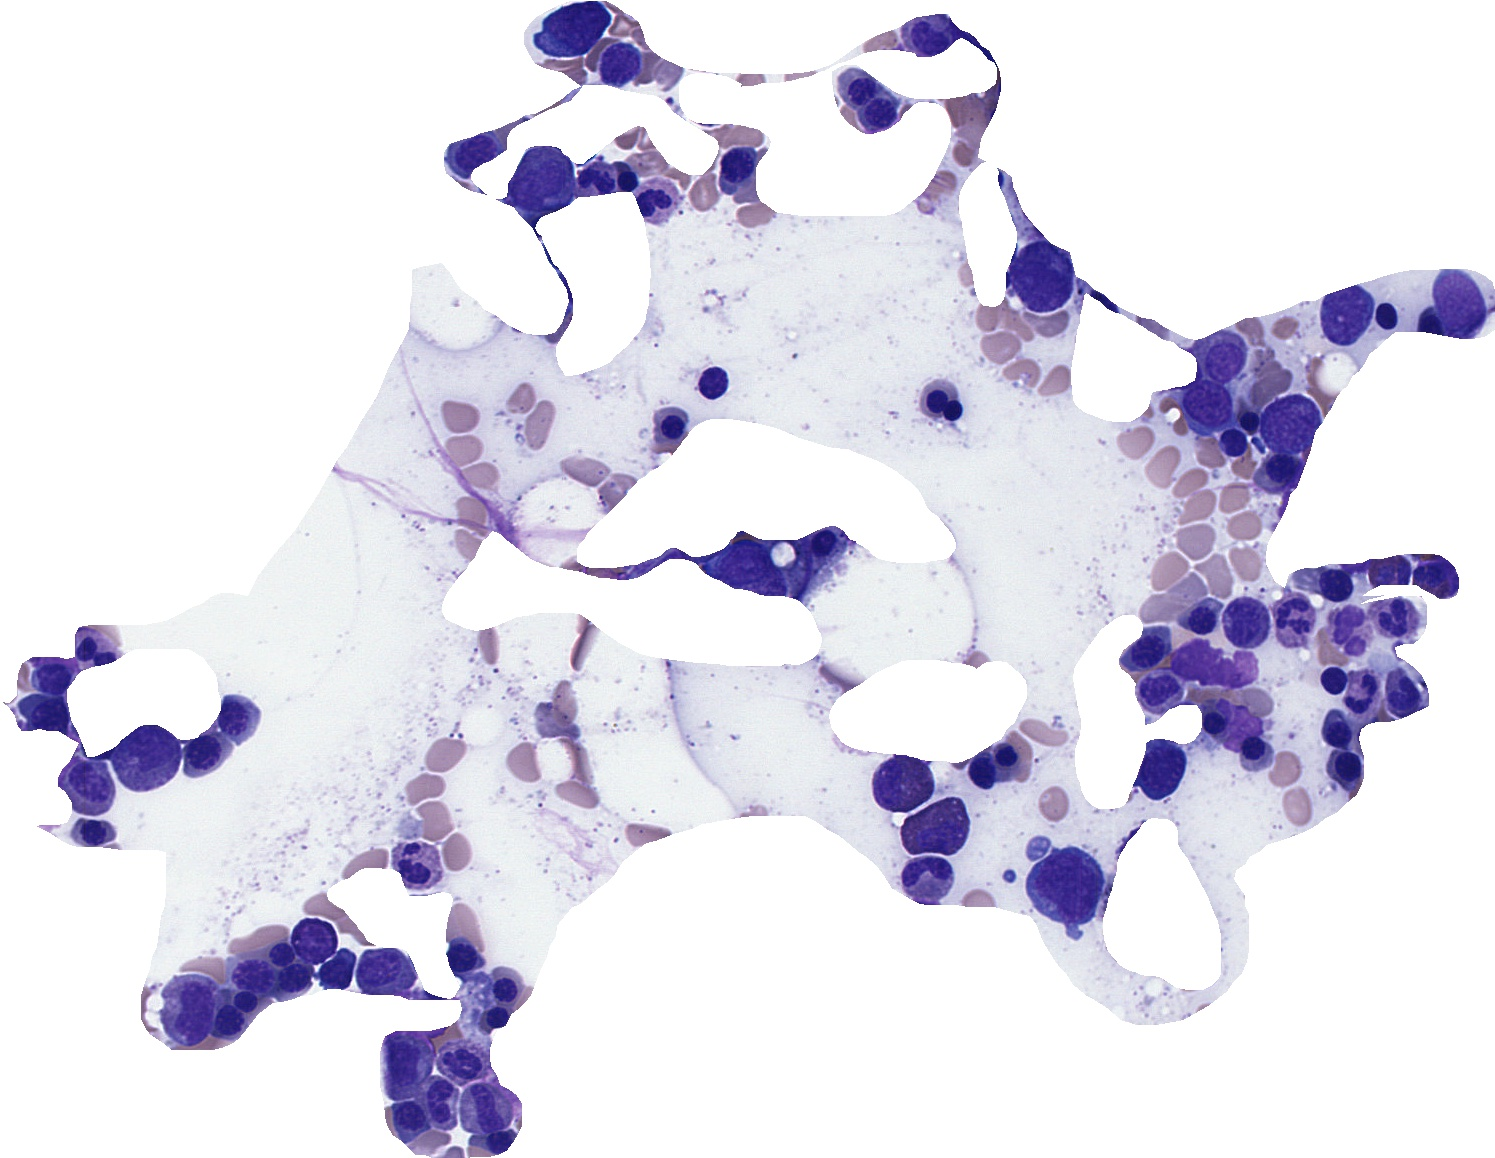objectness: (1207, 418, 1258, 469), (470, 990, 521, 1041), (481, 963, 532, 1014), (288, 913, 339, 963), (572, 157, 621, 208), (1372, 594, 1422, 645), (1193, 333, 1243, 384), (1135, 666, 1186, 716), (914, 804, 963, 855), (904, 8, 954, 59), (413, 1078, 464, 1128), (1186, 378, 1235, 428), (1264, 401, 1314, 452), (720, 539, 771, 589), (1169, 636, 1220, 686), (1224, 397, 1275, 447), (1216, 702, 1266, 753), (646, 402, 697, 452), (312, 946, 362, 997), (23, 689, 73, 740), (982, 730, 1031, 780), (447, 127, 498, 177), (1321, 740, 1371, 791), (203, 997, 252, 1048), (855, 87, 906, 137), (1311, 703, 1362, 753), (180, 730, 231, 779), (1190, 693, 1241, 743), (515, 154, 565, 204), (119, 730, 169, 780), (1379, 670, 1428, 720), (1325, 604, 1375, 654), (69, 629, 119, 679), (391, 838, 440, 887), (439, 1040, 489, 1090), (1269, 592, 1319, 642), (1337, 672, 1387, 722), (630, 176, 680, 226), (164, 984, 214, 1034), (1223, 596, 1273, 646), (457, 1084, 507, 1134), (360, 947, 410, 997), (64, 757, 114, 807), (1405, 551, 1455, 601), (879, 756, 928, 806), (1363, 547, 1412, 597), (903, 852, 953, 902), (1046, 857, 1096, 907), (1434, 276, 1484, 325), (1320, 291, 1370, 341), (547, 2, 597, 52), (1217, 643, 1267, 693), (218, 977, 268, 1027), (1360, 291, 1410, 341), (687, 358, 737, 408), (1307, 653, 1357, 703), (1404, 294, 1454, 344), (1121, 625, 1171, 675), (268, 953, 318, 1003), (66, 807, 115, 857), (27, 654, 76, 704), (712, 142, 762, 192), (256, 926, 306, 976), (437, 931, 487, 981), (214, 691, 263, 740), (383, 1096, 433, 1146), (1251, 444, 1301, 494), (595, 39, 644, 89), (957, 749, 1007, 799), (1232, 730, 1281, 779), (1307, 560, 1357, 609), (1177, 594, 1227, 643), (913, 373, 962, 422), (221, 947, 271, 997), (832, 62, 882, 112), (1019, 249, 1069, 299), (383, 1040, 433, 1090), (468, 1118, 519, 1158)
